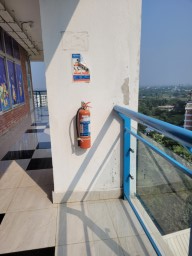fire_extinguisher: (76, 133, 112, 154)
